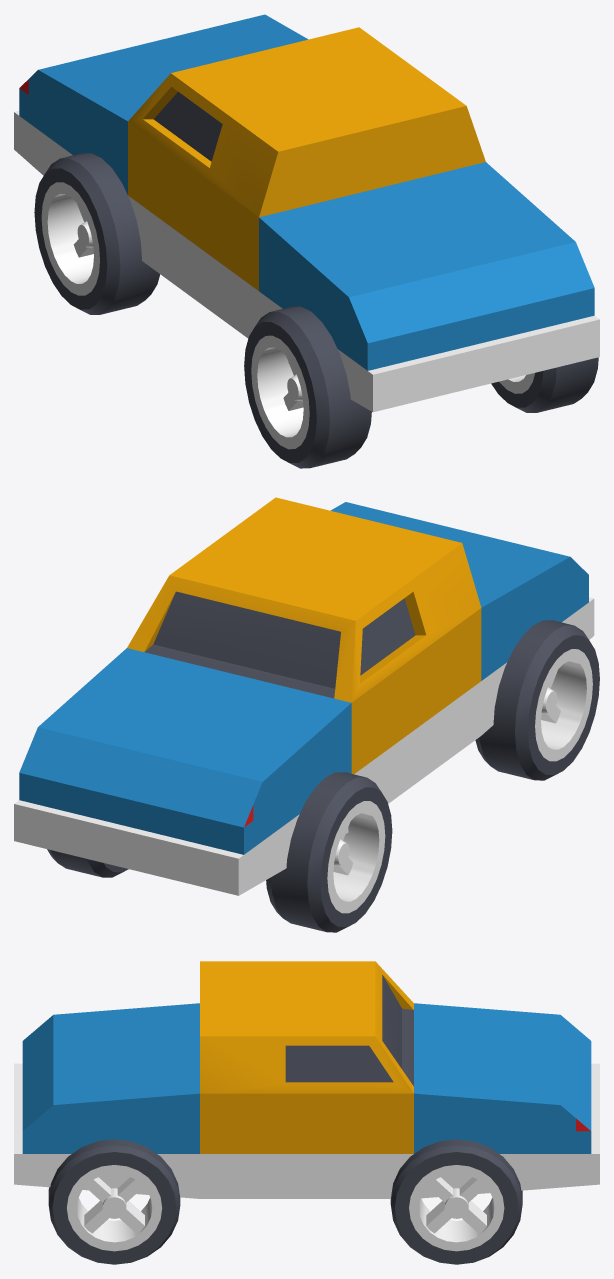
The model's file is sedan.fbx.
3 renders of one model, top to bottom at view 1: azimuth 30°, elevation 25°; view 2: azimuth 150°, elevation 25°; view 3: azimuth 270°, elevation 25°, orthographic. The views are drawn at different scales.
Parts seen in each view (by area): view 1: hood_default_3, windshield_square_2, hood_default_0, wheel_smallSports_7, wheel_smallSports_6, wheel_smallSports_5; view 2: windshield_square_2, hood_default_0, wheel_smallSports_6, wheel_smallSports_7, hood_default_3, wheel_smallSports_4; view 3: windshield_square_2, hood_default_0, hood_default_3, wheel_smallSports_5, wheel_smallSports_4.
Boxes of the visible parts, left/top/right/bottom form: hood_default_3: left=259, top=162, right=599, bottom=412; windshield_square_2: left=128, top=27, right=485, bottom=338; hood_default_0: left=14, top=14, right=308, bottom=194; wheel_smallSports_7: left=244, top=306, right=371, bottom=468; wheel_smallSports_6: left=34, top=153, right=159, bottom=314; wheel_smallSports_5: left=491, top=357, right=598, bottom=412; windshield_square_2: left=127, top=497, right=481, bottom=803; hood_default_0: left=14, top=648, right=351, bottom=895; wheel_smallSports_6: left=266, top=772, right=392, bottom=932; wheel_smallSports_7: left=475, top=620, right=599, bottom=780; hood_default_3: left=330, top=502, right=594, bottom=735; wheel_smallSports_4: left=47, top=849, right=128, bottom=877; windshield_square_2: left=200, top=961, right=413, bottom=1198; hood_default_0: left=414, top=1003, right=599, bottom=1198; hood_default_3: left=14, top=1003, right=199, bottom=1198; wheel_smallSports_5: left=48, top=1139, right=180, bottom=1264; wheel_smallSports_4: left=390, top=1139, right=522, bottom=1264.
Bounding box in the file's own units: 12.37 × 11.08 × 27.4.
